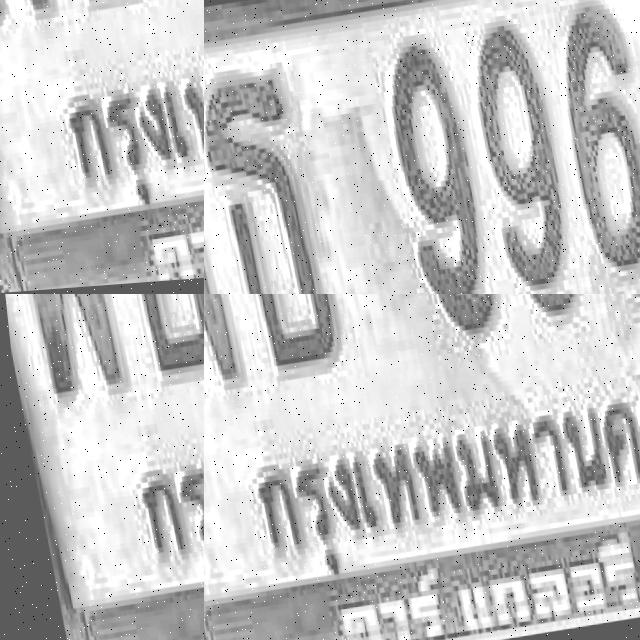license-plate: (204, 294, 640, 640), (204, 0, 501, 294), (0, 0, 204, 294), (0, 294, 204, 414)
